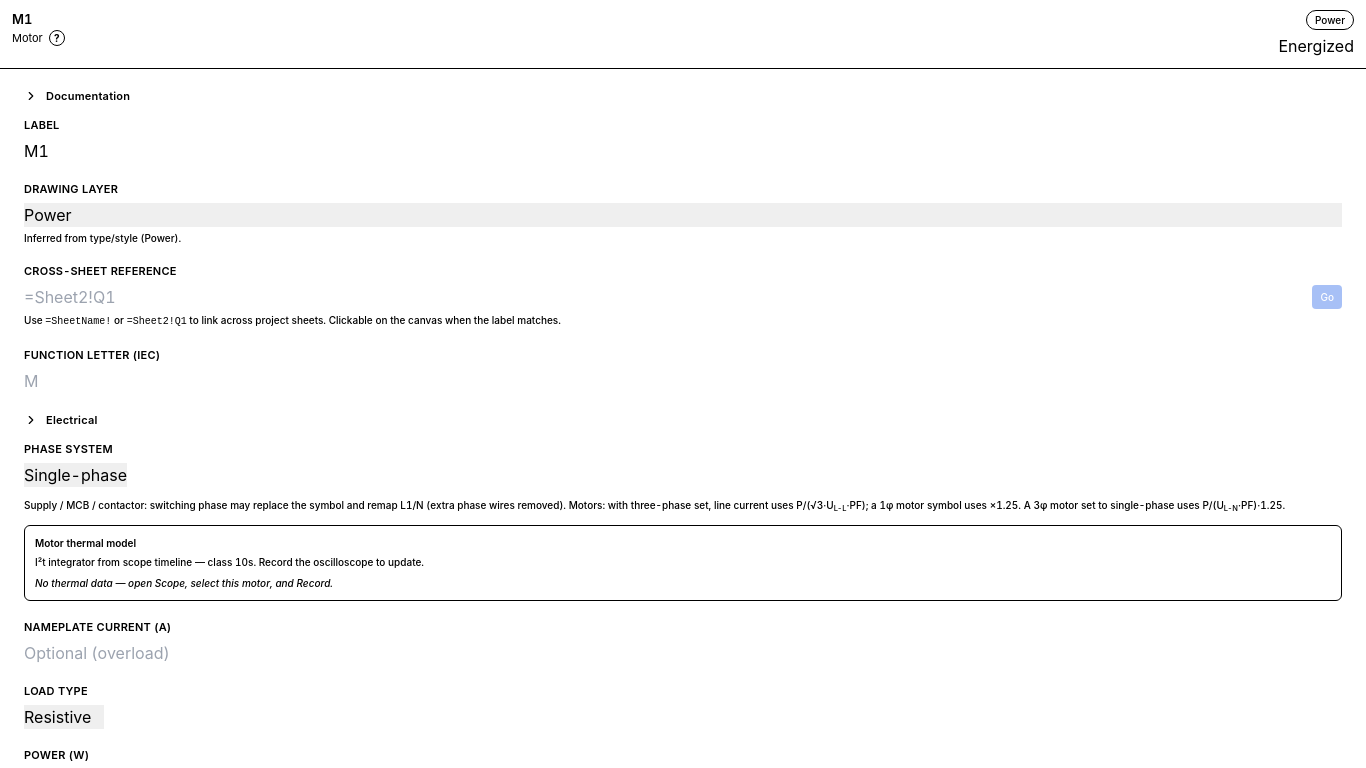
PropertyPanel sections › shows help popover instead of inline help wall
What coordinates should you click on to do the following:
click the button with test id "component-help-trigger"
I would click on:
 (57, 38)
Its box is [49,30,65,46].
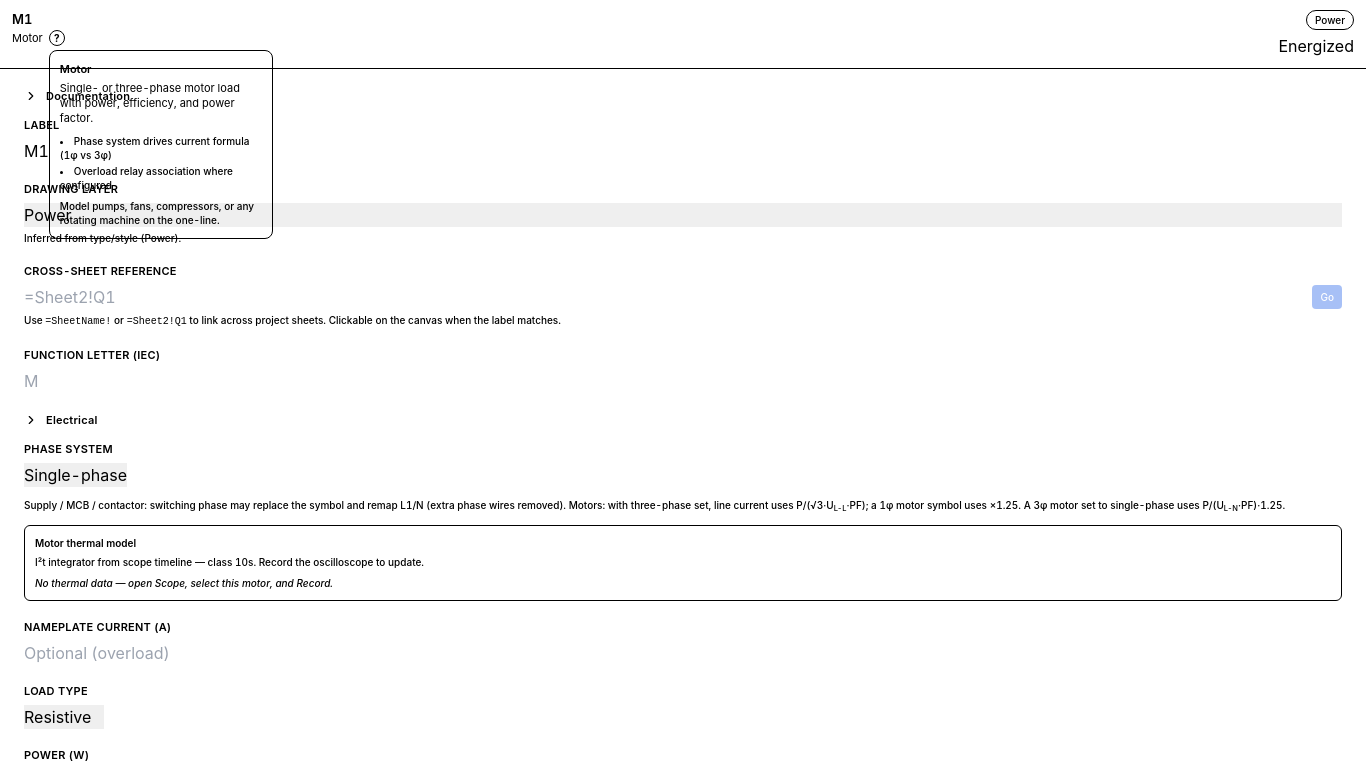
Expected: the tooltip with test id "component-help-popover" is shown, [49,50,273,239]
